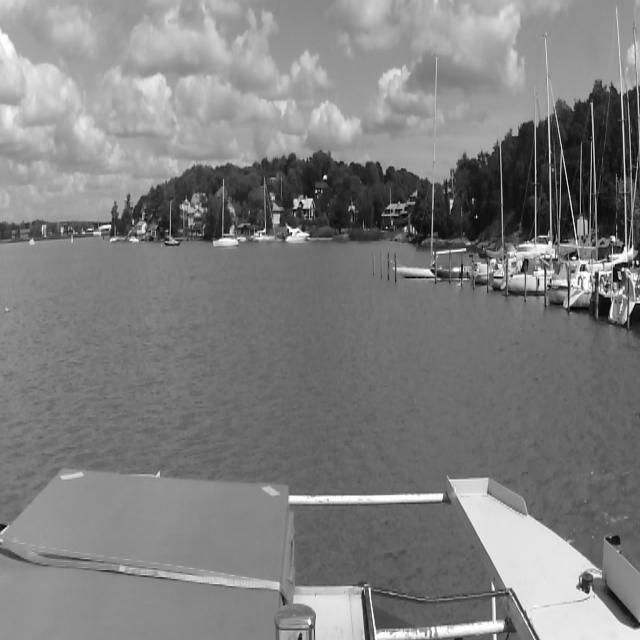buoy: (71, 235, 73, 242)
ship: (498, 30, 554, 294), (427, 134, 513, 284), (212, 178, 240, 247), (253, 176, 275, 243), (164, 200, 180, 246), (284, 226, 310, 243), (29, 238, 35, 246)
